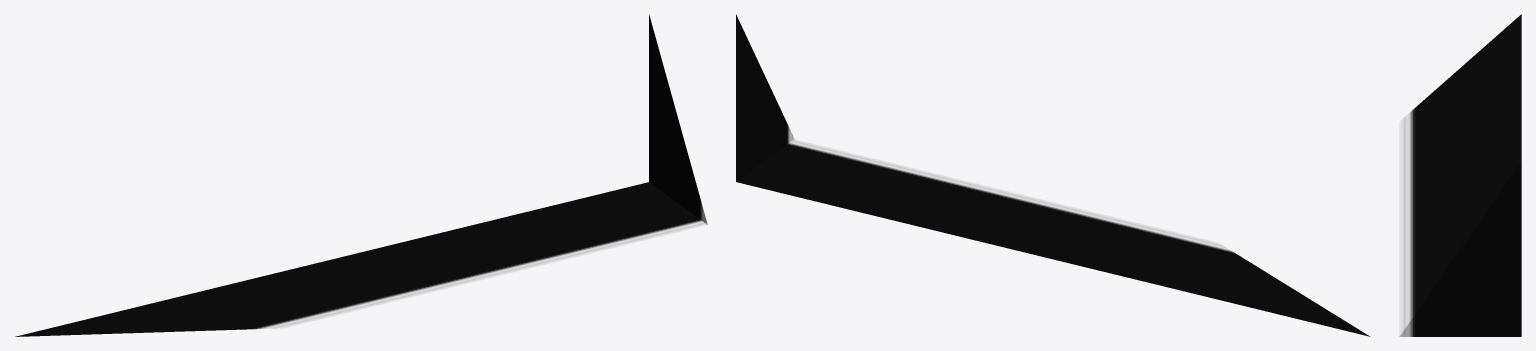
3 views of the same model, side by side, from view 1: azimuth 30°, elevation 25°; view 2: azimuth 150°, elevation 25°; view 3: azimuth 270°, elevation 25° (orthographic). The views are drawn at different scales.
Visible parts, largest first — view 1: Joint_0_Object_0; view 2: Joint_0_Object_0; view 3: Joint_0_Object_0.
Part boxes in pixels (x1,y1,x2,y2): Joint_0_Object_0: [15, 14, 707, 336]; Joint_0_Object_0: [736, 14, 1370, 336]; Joint_0_Object_0: [1399, 14, 1521, 336].
Size of the model in its own units: 1874 by 474 by 300.
